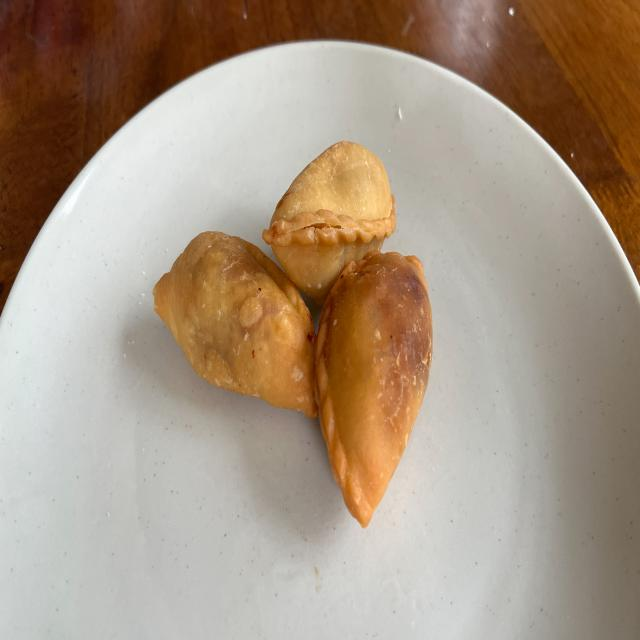karipap: (315, 251, 432, 527), (154, 231, 318, 418), (262, 142, 396, 304)
